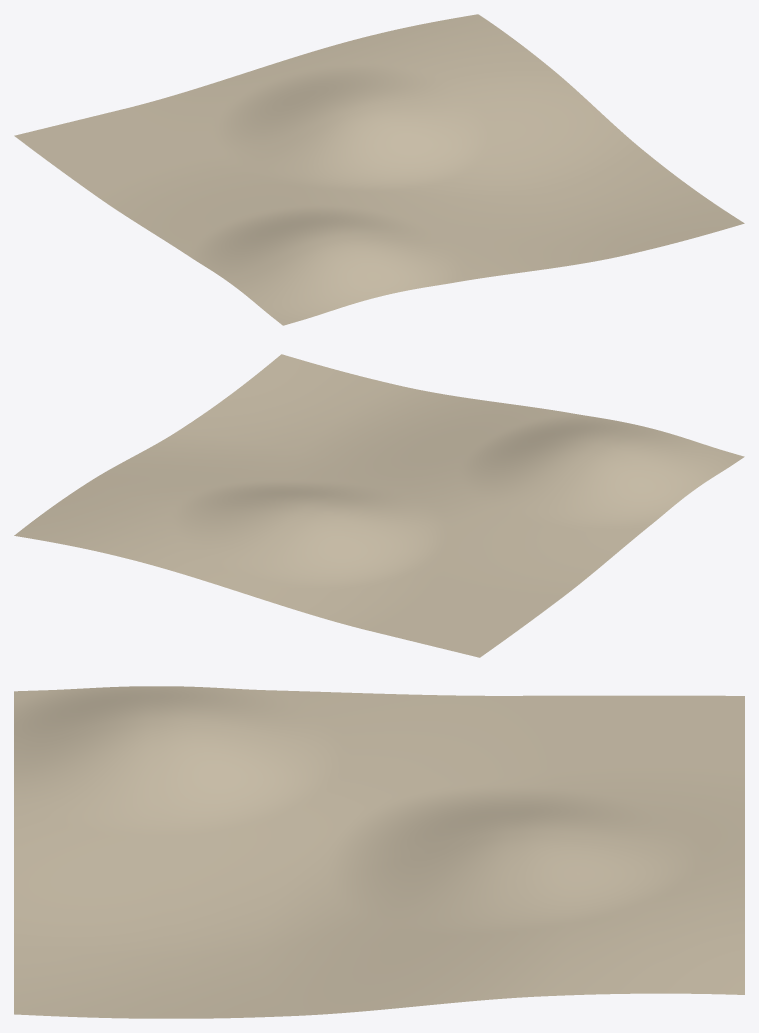
Rendered from Landscape.fbx.
3 views of the same model, one above another, from view 1: azimuth 30°, elevation 25°; view 2: azimuth 150°, elevation 25°; view 3: azimuth 270°, elevation 25° (orthographic). The views are drawn at different scales.
Visible parts, largest first — view 1: grid; view 2: grid; view 3: grid.
Boxes of the visible parts, box(x1,y1,x2,y2) form: grid: box(14, 14, 744, 325); grid: box(14, 354, 744, 657); grid: box(14, 686, 744, 1018).
Size of the model in its own units: 101 by 8.4 by 100.
